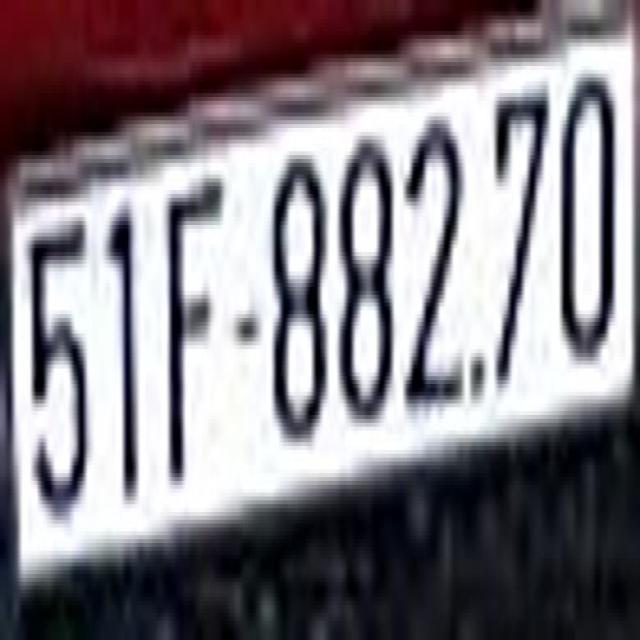0: (555, 66, 618, 380)
1: (108, 198, 144, 512)
2: (400, 117, 466, 430)
5: (26, 213, 90, 524)
7: (488, 85, 550, 411)
8: (272, 136, 328, 473), (338, 140, 397, 446)
F: (162, 174, 223, 488)
